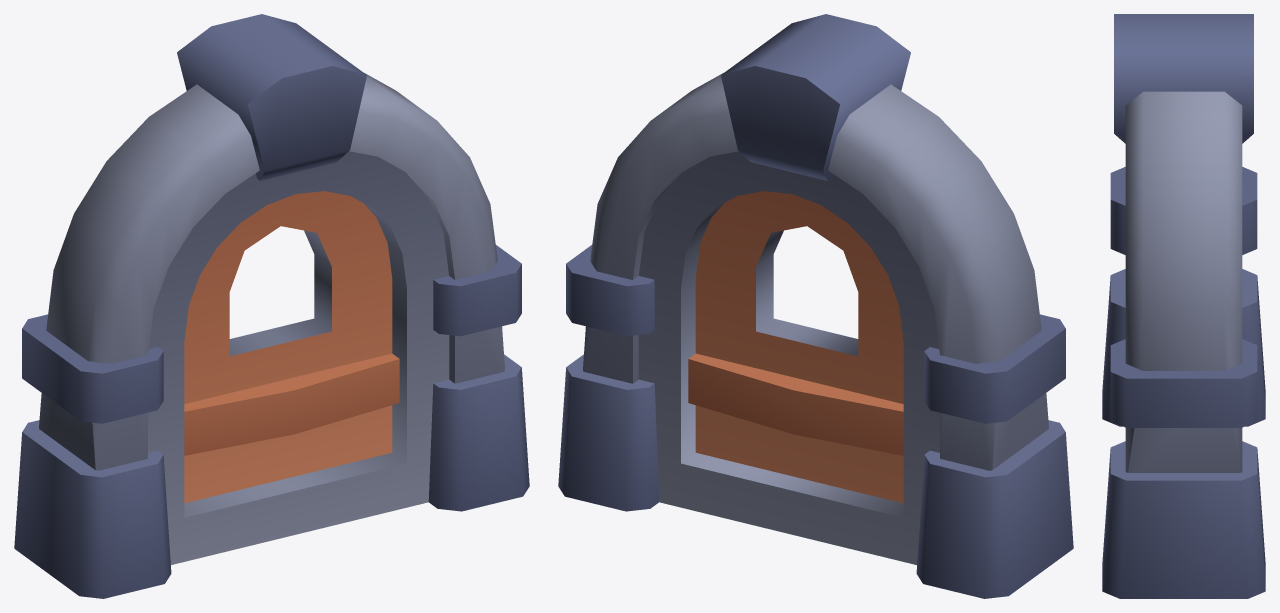
File: gate-door-window.gltf
The picture shows the model from 3 angles, left to right: view 1: azimuth 30°, elevation 25°; view 2: azimuth 150°, elevation 25°; view 3: azimuth 270°, elevation 25°; orthographic projection.
Visible parts, largest first — view 1: gate-door-window, door; view 2: gate-door-window, door; view 3: gate-door-window.
Boxes of the visible parts, bbox=[...] form: gate-door-window: bbox=[14, 14, 529, 598]; door: bbox=[148, 151, 449, 564]; gate-door-window: bbox=[558, 14, 1073, 598]; door: bbox=[638, 151, 939, 564]; gate-door-window: bbox=[1102, 14, 1265, 598].
Bounding box in the file's own units: 4.4 × 4.4 × 1.4.
Materials: 1 (1 with a texture image).
